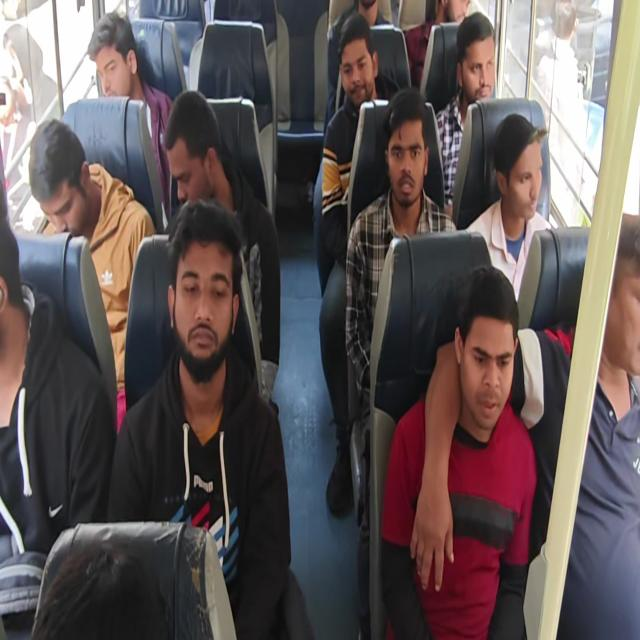person: (17, 525, 164, 640), (165, 190, 239, 388), (448, 267, 517, 434), (23, 111, 98, 239), (156, 86, 230, 215), (597, 201, 640, 415), (490, 97, 552, 224), (78, 0, 146, 114), (0, 163, 27, 410), (382, 88, 427, 212), (333, 9, 381, 112), (455, 13, 512, 99), (434, 0, 474, 38), (352, 0, 384, 33)
